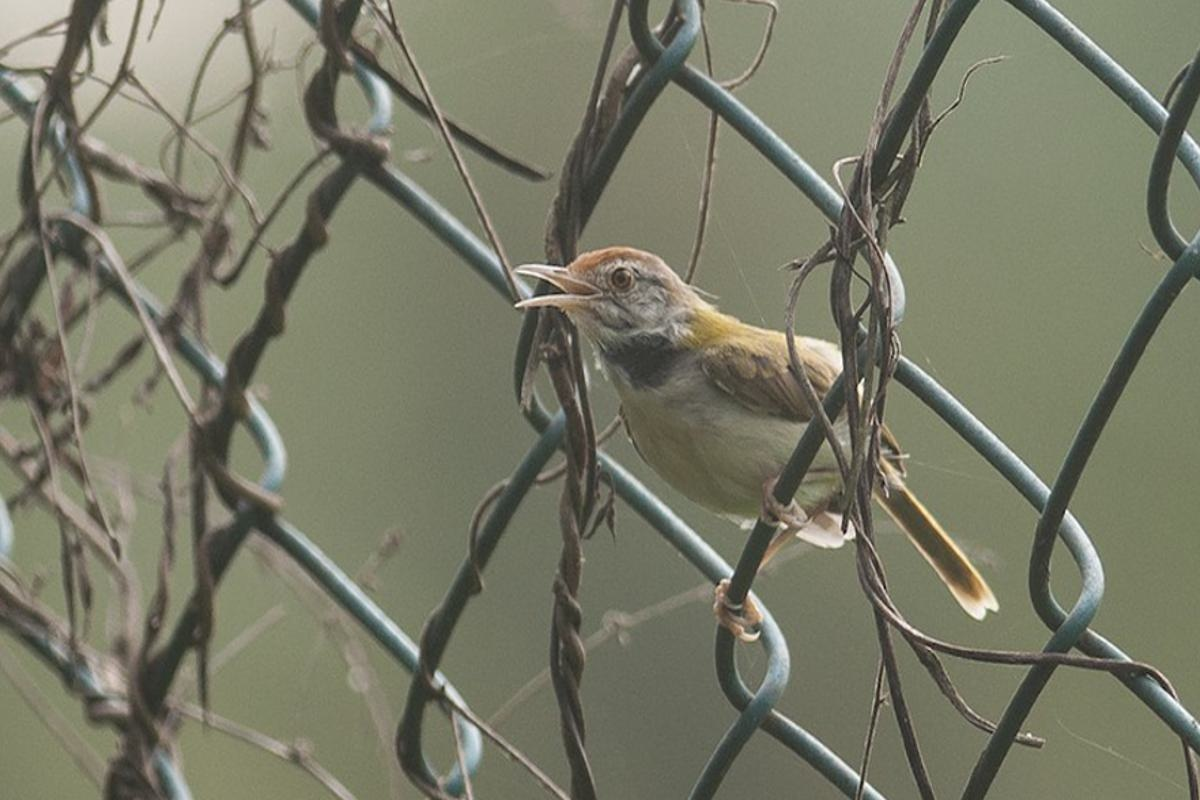tailorbird: (476, 224, 1037, 653)
